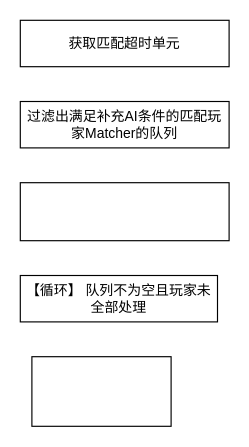
Image size: 249x447. Some labels were removed from this diagram. Here are the shapes that lost their labels. From the top down, the centre of each, then its label:
[124,211]: 创建已处理过的匹配对象集合 Set<Matcher> deadMatcher
[101,391]: 【循环】
